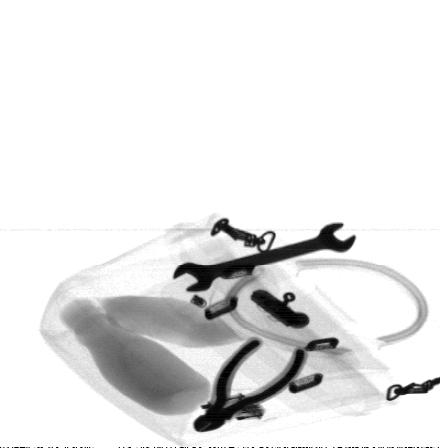Pliers: (193, 337, 306, 432)
Wrench: (172, 222, 359, 291)
